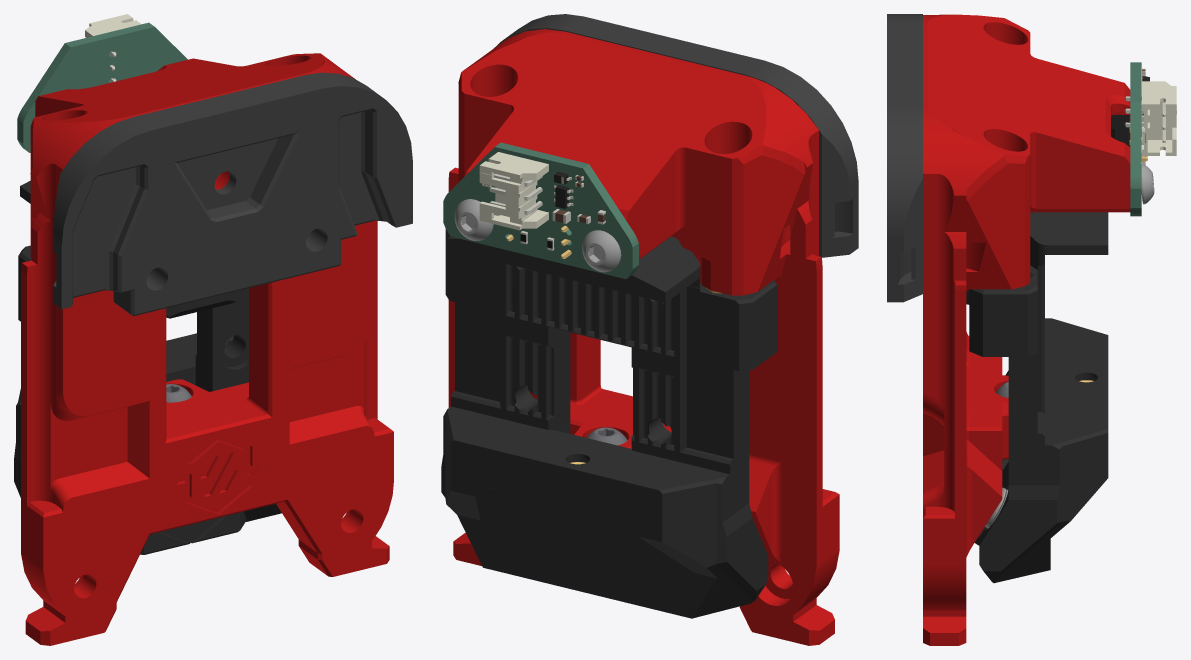
3 renders of one model, left to right at view 1: azimuth 30°, elevation 25°; view 2: azimuth 150°, elevation 25°; view 3: azimuth 270°, elevation 25°, orthographic. The views are drawn at different scales.
Parts seen in each view (by area): view 1: Backplate, Spacer, Shuttle MGN12, OptoTap PCB014, OptoTap PCB007; view 2: Shuttle MGN12, Backplate, Spacer, OptoTap PCB014, OptoTap PCB007, M3x6 BHCS Screws001, M3x6 BHCS Screws; view 3: Backplate, Shuttle MGN12, Spacer, OptoTap PCB007, OptoTap PCB014, OptoTap PCB002, M3x6 BHCS Screws.
Boxes of the visible parts, x1=… form: Backplate: x1=21, y1=53, x2=393, y2=645; Spacer: x1=53, y1=72, x2=412, y2=316; Shuttle MGN12: x1=14, y1=180, x2=281, y2=554; OptoTap PCB014: x1=17, y1=22, x2=187, y2=152; OptoTap PCB007: x1=85, y1=14, x2=141, y2=82; Shuttle MGN12: x1=441, y1=229, x2=777, y2=618; Backplate: x1=448, y1=29, x2=839, y2=645; Spacer: x1=494, y1=14, x2=858, y2=257; OptoTap PCB014: x1=443, y1=142, x2=638, y2=278; OptoTap PCB007: x1=479, y1=152, x2=548, y2=230; M3x6 BHCS Screws001: x1=582, y1=230, x2=621, y2=272; M3x6 BHCS Screws: x1=454, y1=199, x2=493, y2=240; Backplate: x1=923, y1=14, x2=1130, y2=645; Shuttle MGN12: x1=966, y1=212, x2=1108, y2=583; Spacer: x1=887, y1=14, x2=922, y2=302; OptoTap PCB007: x1=1124, y1=81, x2=1176, y2=155; OptoTap PCB014: x1=1130, y1=62, x2=1141, y2=216; OptoTap PCB002: x1=1111, y1=115, x2=1129, y2=146; M3x6 BHCS Screws: x1=1141, y1=163, x2=1154, y2=204.
Size of the model in its own units: 0.055 by 0.0762 by 0.0402.
